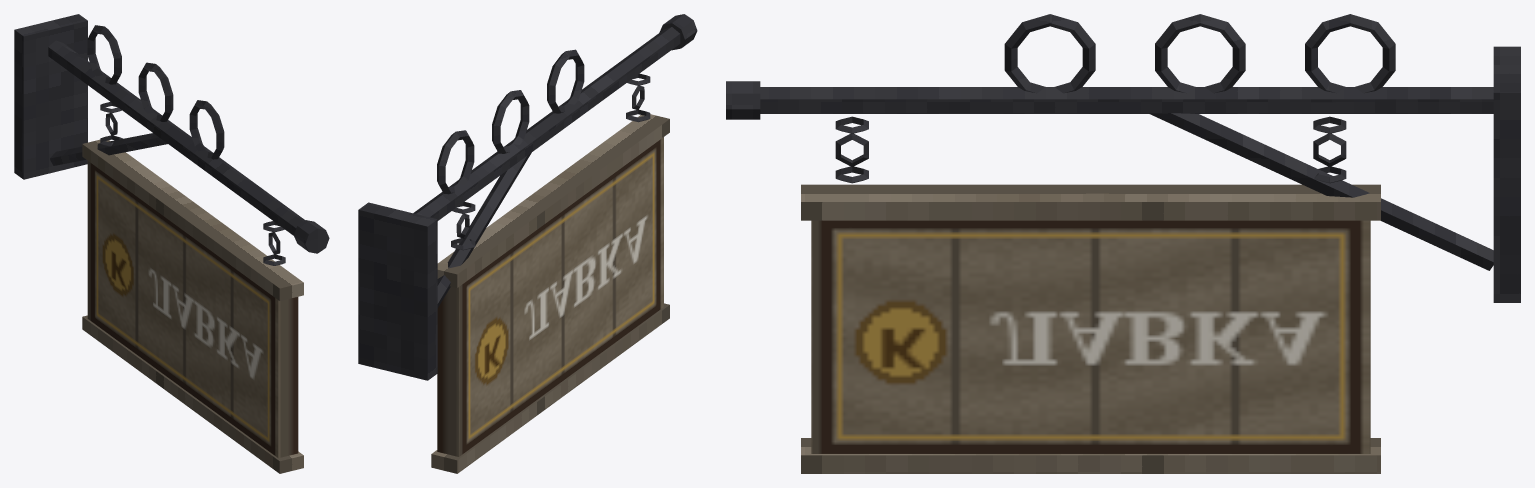
Rendered from sign_shop.obj.
3 renders of one model, left to right at view 1: azimuth 30°, elevation 25°; view 2: azimuth 150°, elevation 25°; view 3: azimuth 270°, elevation 25°, orthographic. The views are drawn at different scales.
Parts seen in each view (by area): view 1: sign_shop; view 2: sign_shop; view 3: sign_shop.
Boxes of the visible parts, x1,y1,x2,y2 form: sign_shop: (14, 14, 329, 473); sign_shop: (358, 14, 697, 473); sign_shop: (726, 14, 1520, 473).
Size of the model in its own units: 0.16 by 0.73 by 1.16.
